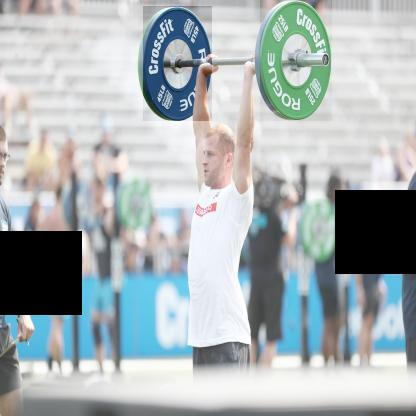barbell: (261, 1, 333, 122), (144, 7, 213, 122)
